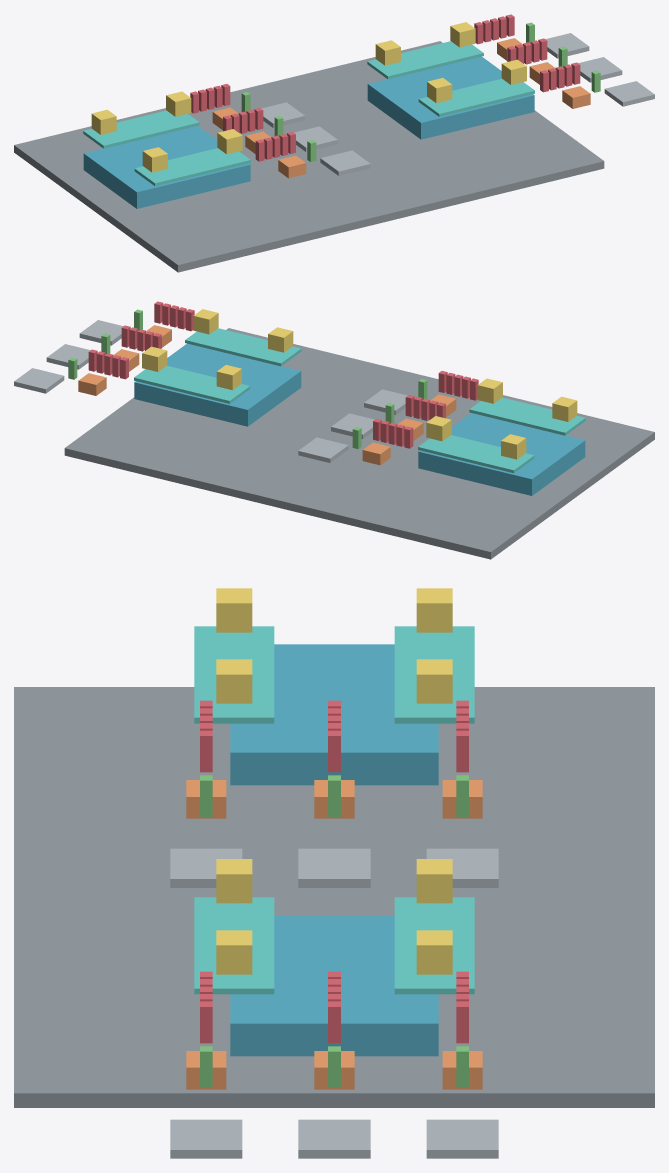
File: cdg-airport.glb
3 renders of one model, top to bottom at view 1: azimuth 30°, elevation 25°; view 2: azimuth 150°, elevation 25°; view 3: azimuth 270°, elevation 25°, orthographic. The views are drawn at different scales.
Parts seen in each view (by area): view 1: airport-SYN-AP-CDG, terminal-SYN-AP-CDG-T1, terminal-SYN-AP-CDG-T2, zone-SYN-AP-CDG-T1-Z1, zone-SYN-AP-CDG-T2-Z2, zone-SYN-AP-CDG-T1-Z2, zone-SYN-AP-CDG-T2-Z1, stand-SYN-AP-CDG-S3, stand-SYN-AP-CDG-S6, stand-SYN-AP-CDG-S4, stand-SYN-AP-CDG-S5, stand-SYN-AP-CDG-S1 (+11 smaller); view 2: airport-SYN-AP-CDG, terminal-SYN-AP-CDG-T1, terminal-SYN-AP-CDG-T2, zone-SYN-AP-CDG-T1-Z2, zone-SYN-AP-CDG-T2-Z1, zone-SYN-AP-CDG-T1-Z1, zone-SYN-AP-CDG-T2-Z2, stand-SYN-AP-CDG-S1, stand-SYN-AP-CDG-S4, stand-SYN-AP-CDG-S5, stand-SYN-AP-CDG-S6, stand-SYN-AP-CDG-S3 (+11 smaller); view 3: airport-SYN-AP-CDG, terminal-SYN-AP-CDG-T1, terminal-SYN-AP-CDG-T2, zone-SYN-AP-CDG-T1-Z1, zone-SYN-AP-CDG-T1-Z2, zone-SYN-AP-CDG-T2-Z1, zone-SYN-AP-CDG-T2-Z2, stand-SYN-AP-CDG-S2, stand-SYN-AP-CDG-S5, stand-SYN-AP-CDG-S4, stand-SYN-AP-CDG-S6, stand-SYN-AP-CDG-S1 (+15 smaller).
Boxes of the visible parts, <box> form: airport-SYN-AP-CDG: <box>14,41,604,272</box>; terminal-SYN-AP-CDG-T1: <box>83,126,250,208</box>; terminal-SYN-AP-CDG-T2: <box>367,56,534,139</box>; zone-SYN-AP-CDG-T1-Z1: <box>83,110,199,148</box>; zone-SYN-AP-CDG-T2-Z2: <box>418,78,534,116</box>; zone-SYN-AP-CDG-T1-Z2: <box>134,148,250,186</box>; zone-SYN-AP-CDG-T2-Z1: <box>367,41,483,79</box>; stand-SYN-AP-CDG-S3: <box>320,150,370,175</box>; stand-SYN-AP-CDG-S6: <box>604,81,654,106</box>; stand-SYN-AP-CDG-S4: <box>545,33,589,58</box>; stand-SYN-AP-CDG-S5: <box>578,57,622,82</box>; stand-SYN-AP-CDG-S1: <box>261,102,304,127</box>; airport-SYN-AP-CDG: <box>64,328,654,559</box>; terminal-SYN-AP-CDG-T1: <box>418,413,585,495</box>; terminal-SYN-AP-CDG-T2: <box>134,343,301,426</box>; zone-SYN-AP-CDG-T1-Z2: <box>469,397,585,435</box>; zone-SYN-AP-CDG-T2-Z1: <box>134,365,250,403</box>; zone-SYN-AP-CDG-T1-Z1: <box>418,435,534,473</box>; zone-SYN-AP-CDG-T2-Z2: <box>185,328,301,366</box>; stand-SYN-AP-CDG-S1: <box>298,437,348,462</box>; stand-SYN-AP-CDG-S4: <box>14,368,64,393</box>; stand-SYN-AP-CDG-S5: <box>46,344,90,369</box>; stand-SYN-AP-CDG-S6: <box>79,320,123,345</box>; stand-SYN-AP-CDG-S3: <box>364,389,407,414</box>; airport-SYN-AP-CDG: <box>14,687,654,1107</box>; terminal-SYN-AP-CDG-T1: <box>230,644,438,785</box>; terminal-SYN-AP-CDG-T2: <box>230,915,438,1056</box>; zone-SYN-AP-CDG-T1-Z1: <box>394,626,474,723</box>; zone-SYN-AP-CDG-T1-Z2: <box>194,626,274,723</box>; zone-SYN-AP-CDG-T2-Z1: <box>394,897,474,994</box>; zone-SYN-AP-CDG-T2-Z2: <box>194,897,274,994</box>; stand-SYN-AP-CDG-S2: <box>298,848,370,887</box>; stand-SYN-AP-CDG-S5: <box>298,1119,370,1158</box>; stand-SYN-AP-CDG-S4: <box>426,1119,498,1158</box>; stand-SYN-AP-CDG-S6: <box>170,1119,242,1158</box>; stand-SYN-AP-CDG-S1: <box>426,848,498,887</box>.
Bounding box in the file's own units: 14.55 × 1.9 × 8.
